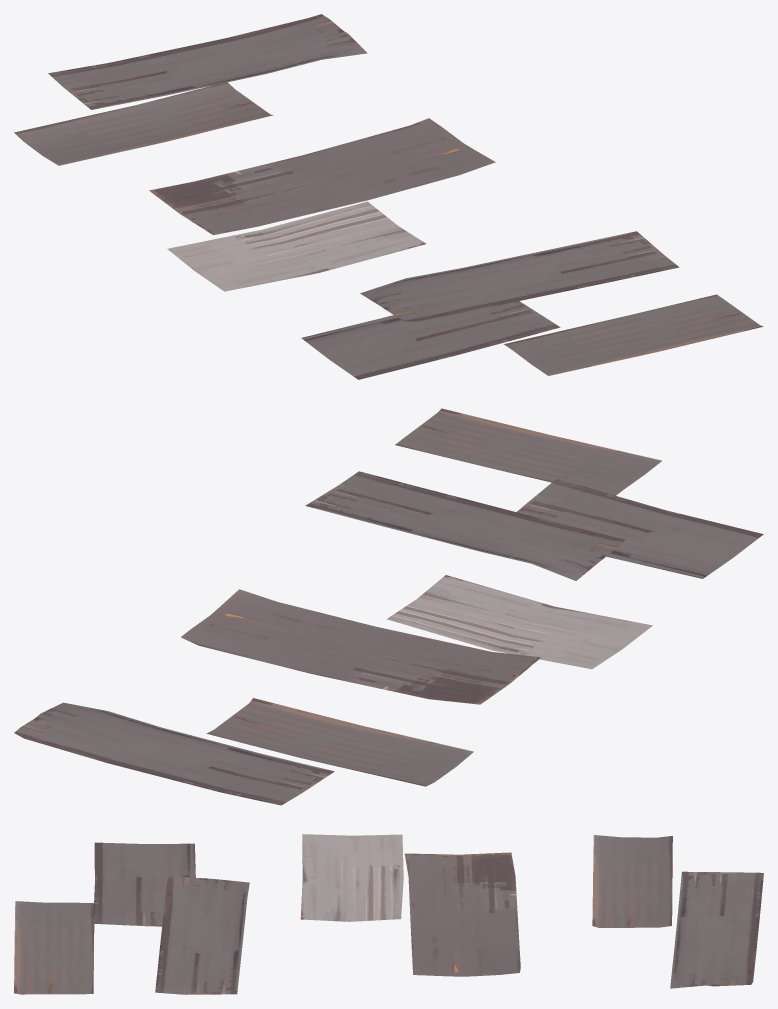
3 views of the same model, one above another, from view 1: azimuth 30°, elevation 25°; view 2: azimuth 150°, elevation 25°; view 3: azimuth 270°, elevation 25° (orthographic). The views are drawn at different scales.
Visible parts, largest first — view 1: body0_model0_lod0_mesh0; view 2: body0_model0_lod0_mesh0; view 3: body0_model0_lod0_mesh0.
Boxes of the visible parts, box(x1,y1,x2,y2) form: body0_model0_lod0_mesh0: box(14, 14, 763, 379); body0_model0_lod0_mesh0: box(14, 408, 763, 805); body0_model0_lod0_mesh0: box(14, 834, 763, 994).
Bounding box in the file's own units: 251 × 4.2 × 506.
Materials: 1 (1 with a texture image).
